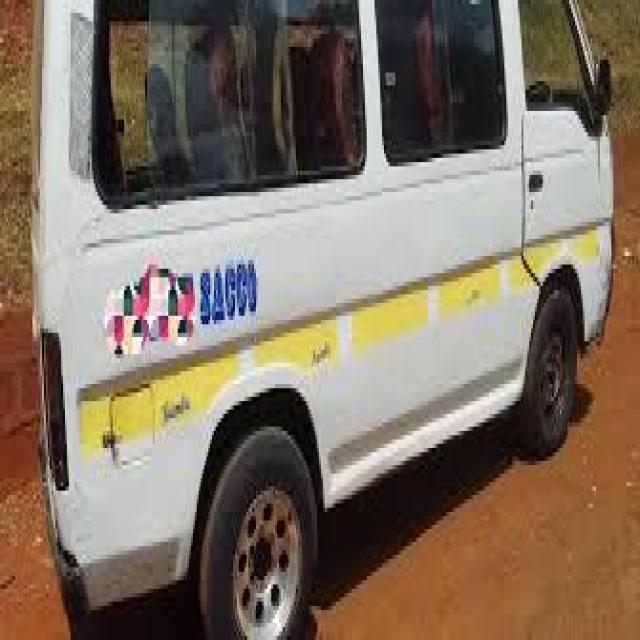matatu: (25, 0, 630, 640)
